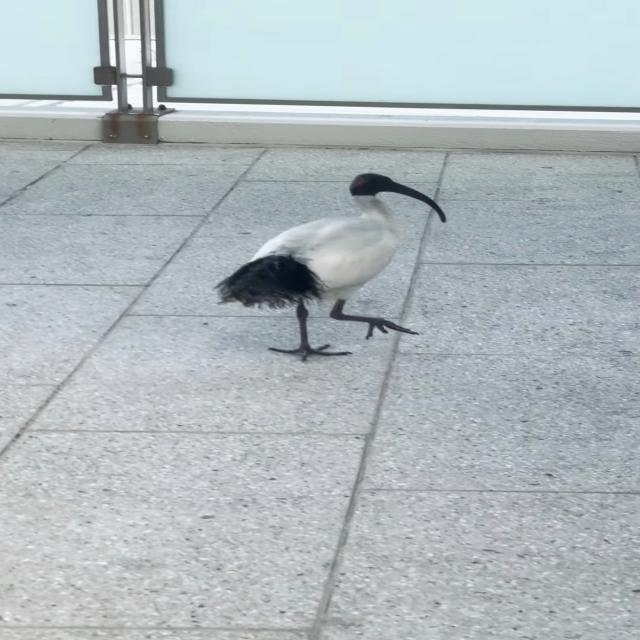Birds-Ibis: (208, 166, 458, 368)
